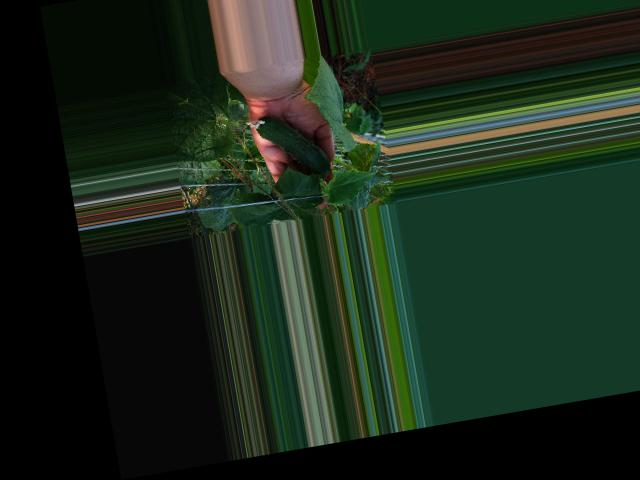cucumber: (244, 106, 330, 185)
